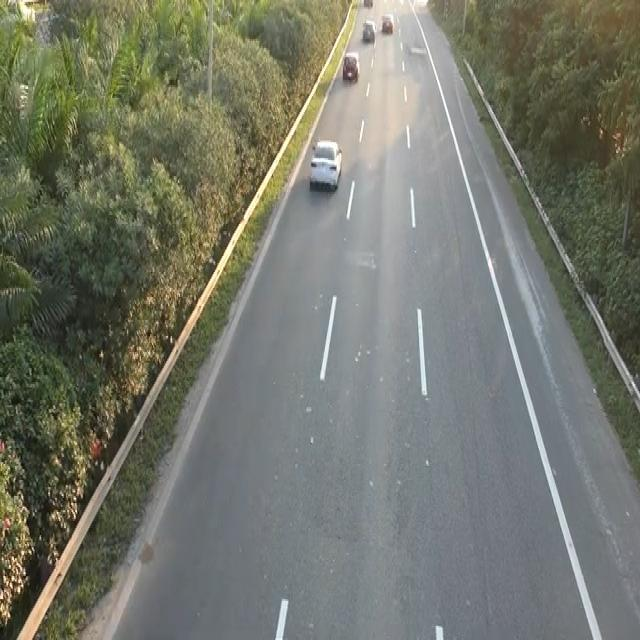bus: (307, 135, 345, 199), (341, 50, 360, 82), (361, 16, 376, 43), (380, 11, 394, 34)
